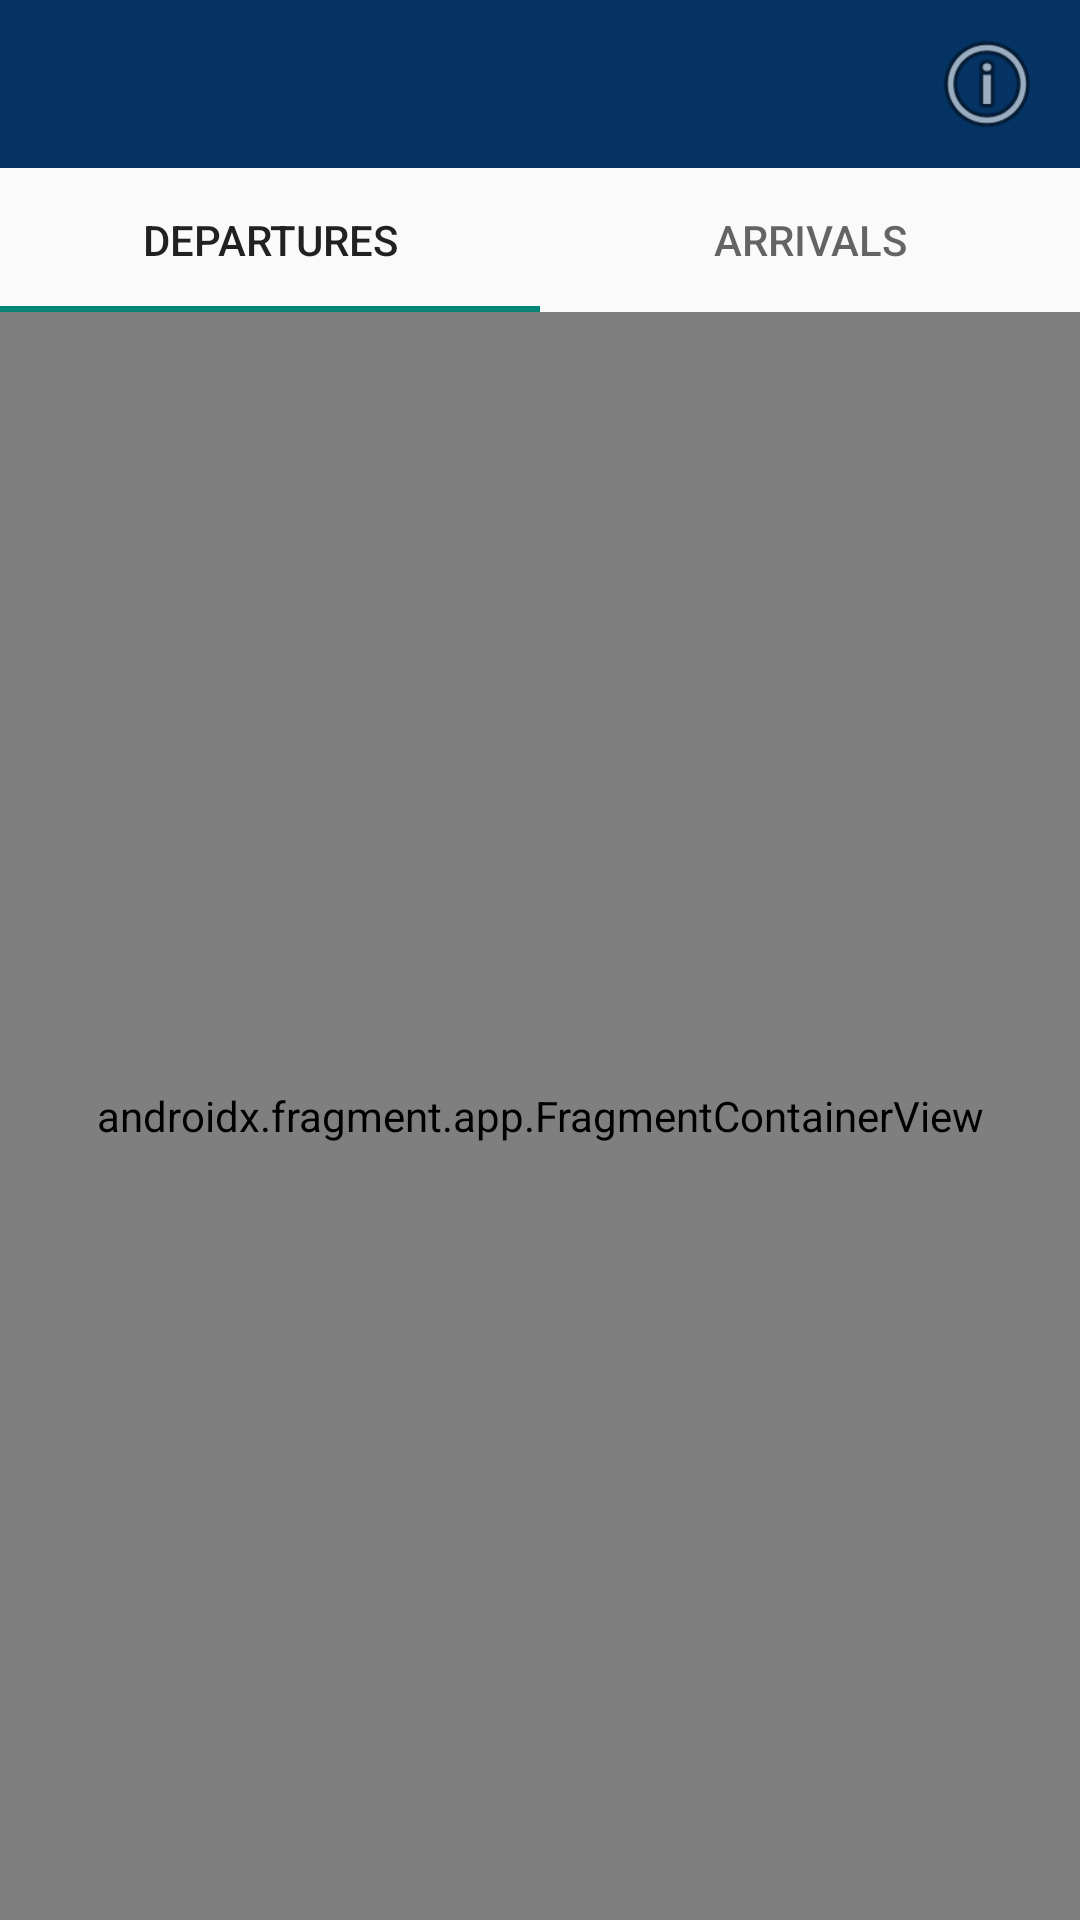

Where icons sit on this 1080×1920 app screen, as (x1, y1, x2, y2):
Station Information: (944, 41, 1030, 127)
